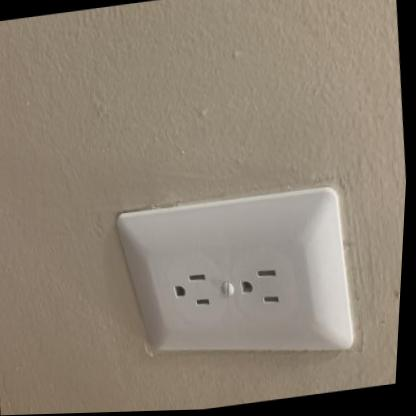OUTLET: (115, 180, 363, 372)
